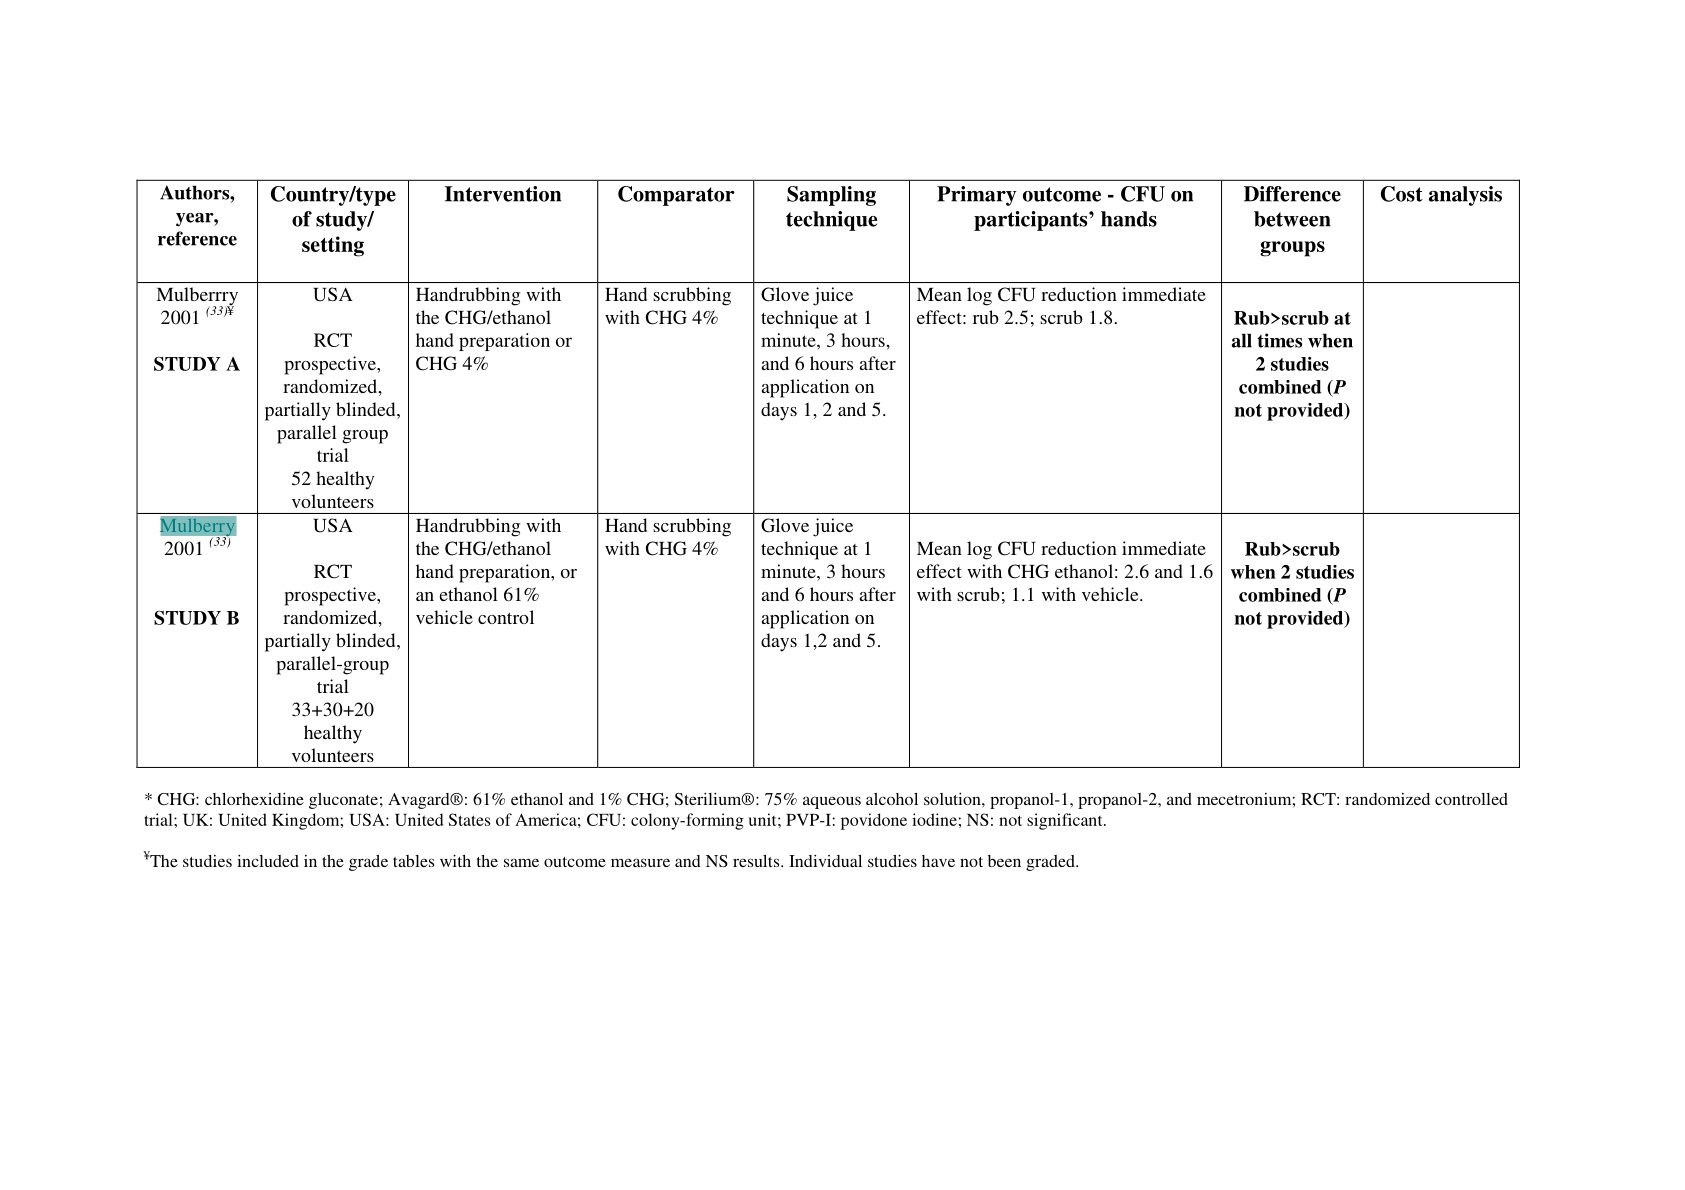full_lined: (135, 178, 1522, 769)
